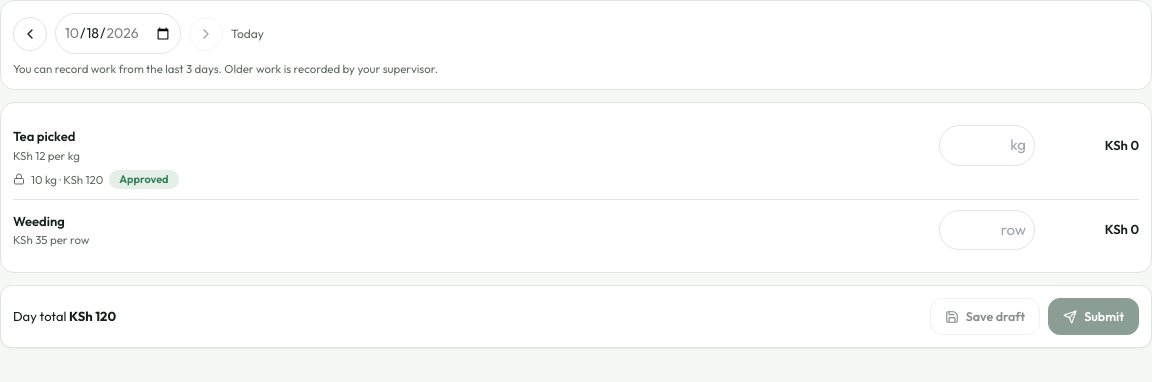
Scenario: record my work › refuses a future day or one older than the limit, and doesn't let approved work be typed over
Check: the text "10 kg · KSh 120" is shown, box [31,171,103,188]
Check: the text "Approved" is shown, box [109,170,178,189]
Type "2026-10-10" into the date field named "Day".
click(118, 34); type("2026-10-10")  # box [55,13,181,54]
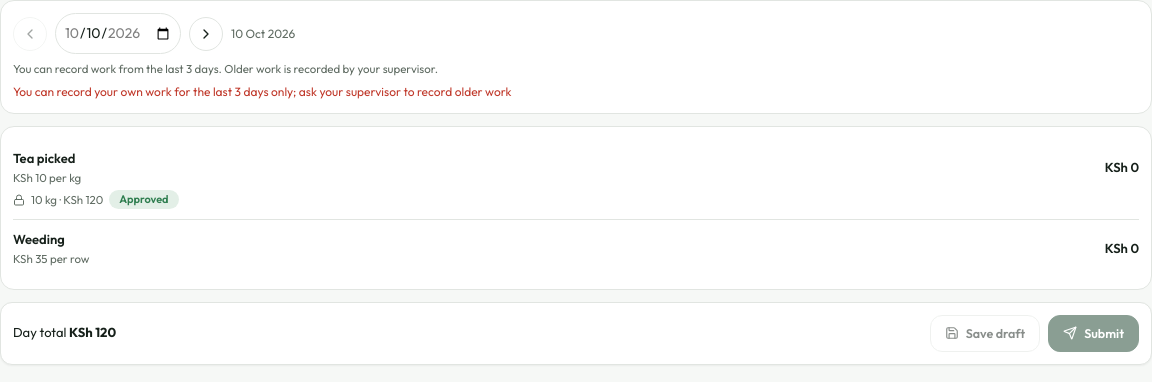
Check: the button "Submit" is disabled, box [1048,315,1139,352]
Check: the message shows "last 3 days only", box [13,84,512,99]
